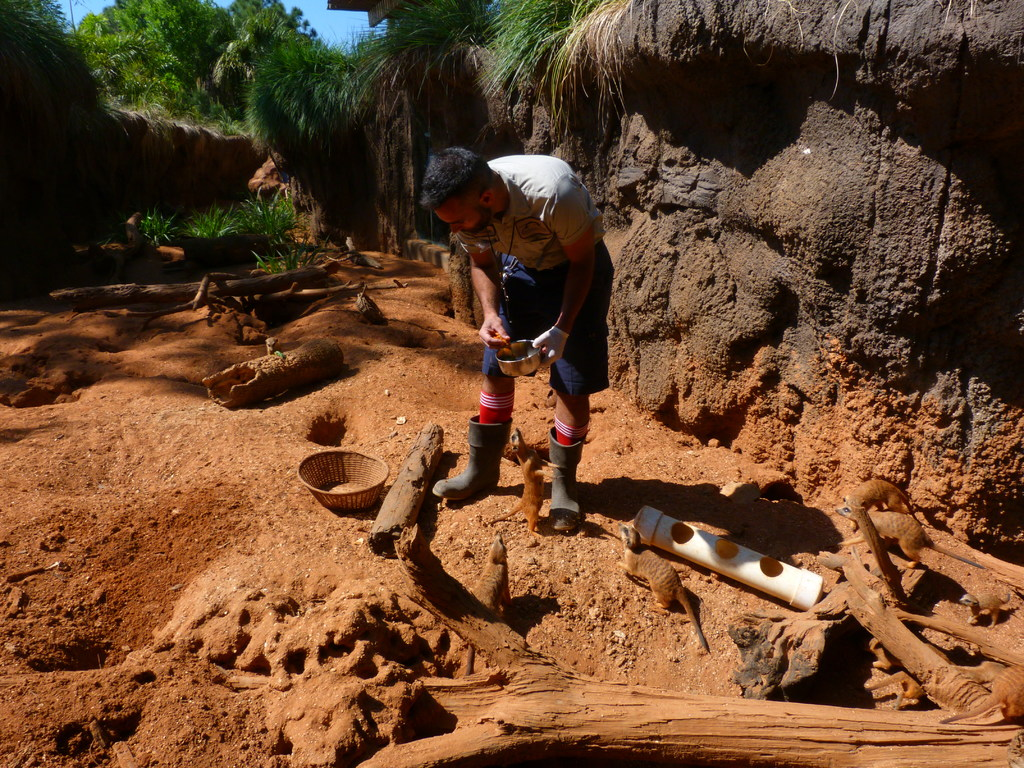Tree: (62, 0, 250, 126)
